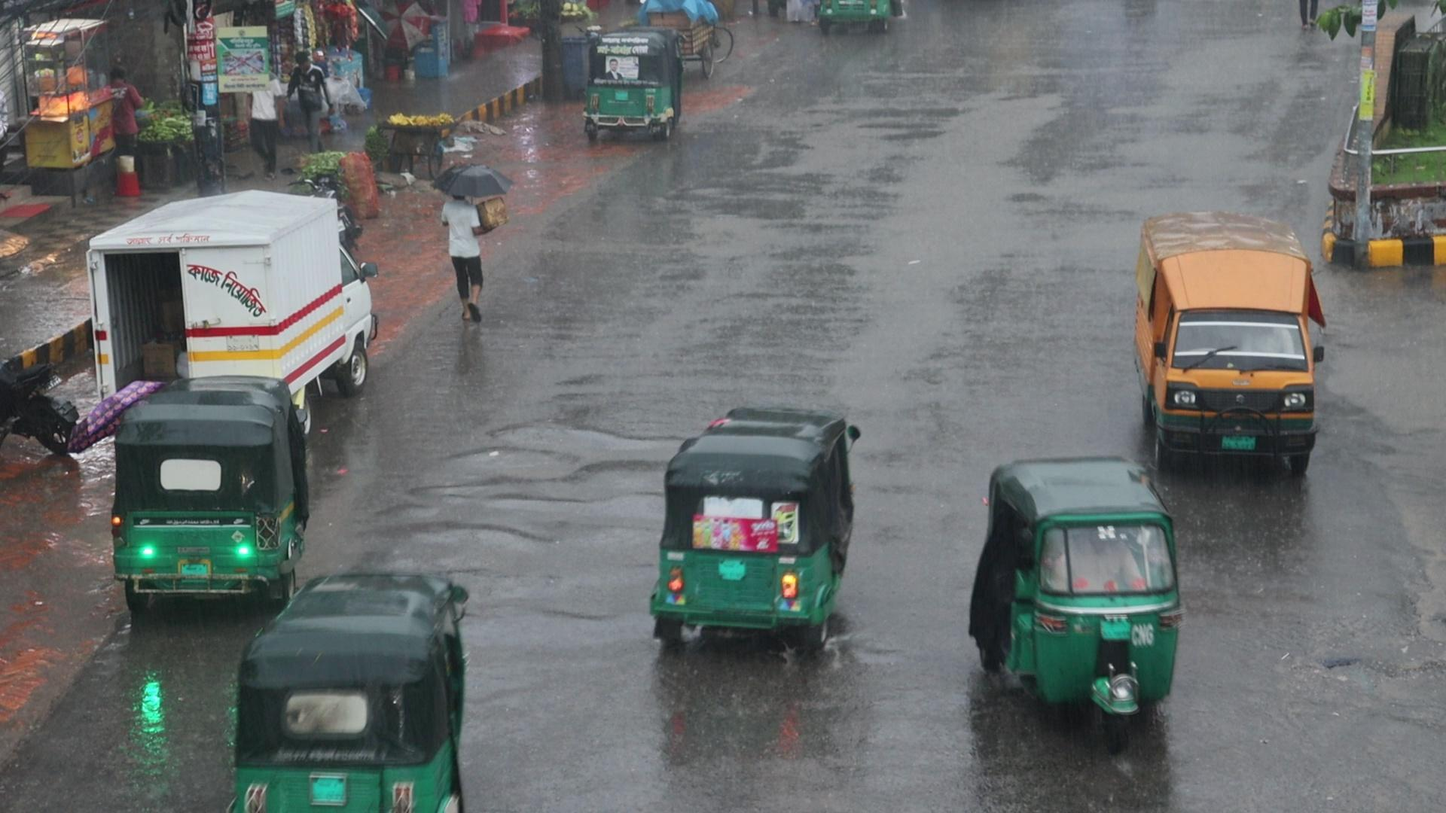Truck: (1129, 204, 1325, 483)
